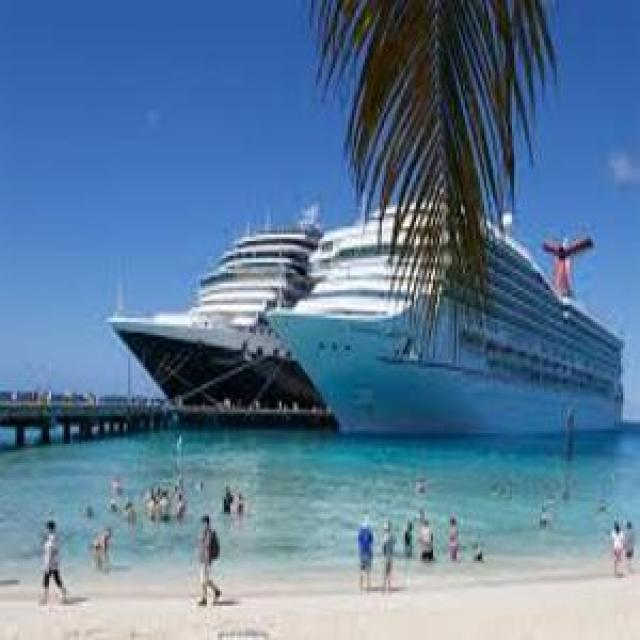passenger ship: (268, 192, 631, 444), (108, 198, 333, 414)
